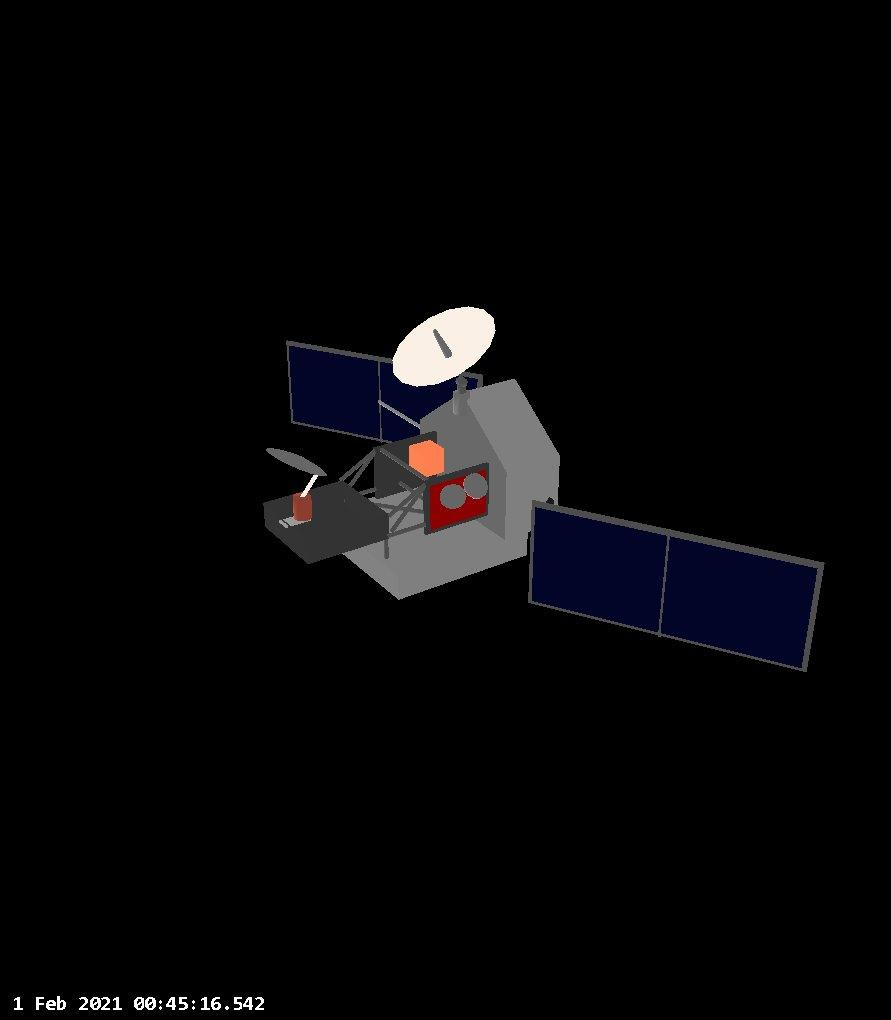antenna: (389, 302, 501, 391), (262, 441, 333, 482)
body: (332, 374, 567, 604)
solar: (522, 494, 830, 677), (280, 334, 493, 450)
